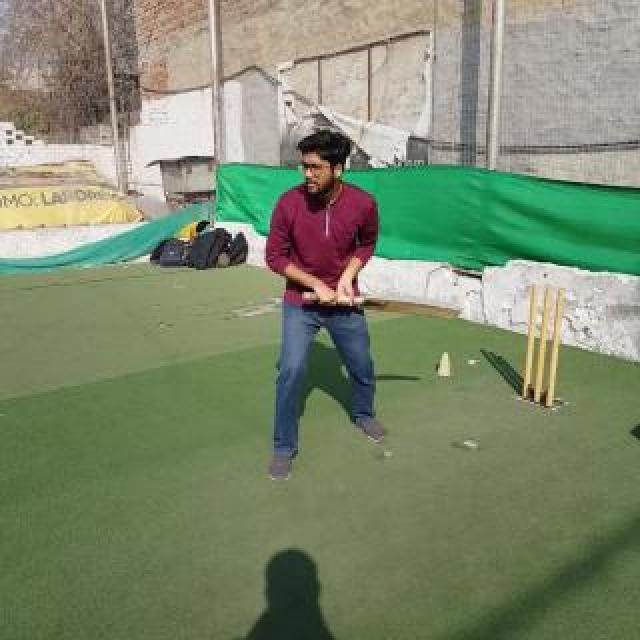bat: (302, 292, 464, 322)
